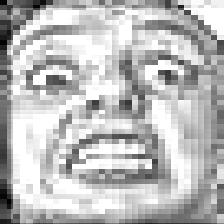angry: (11, 8, 224, 223)
